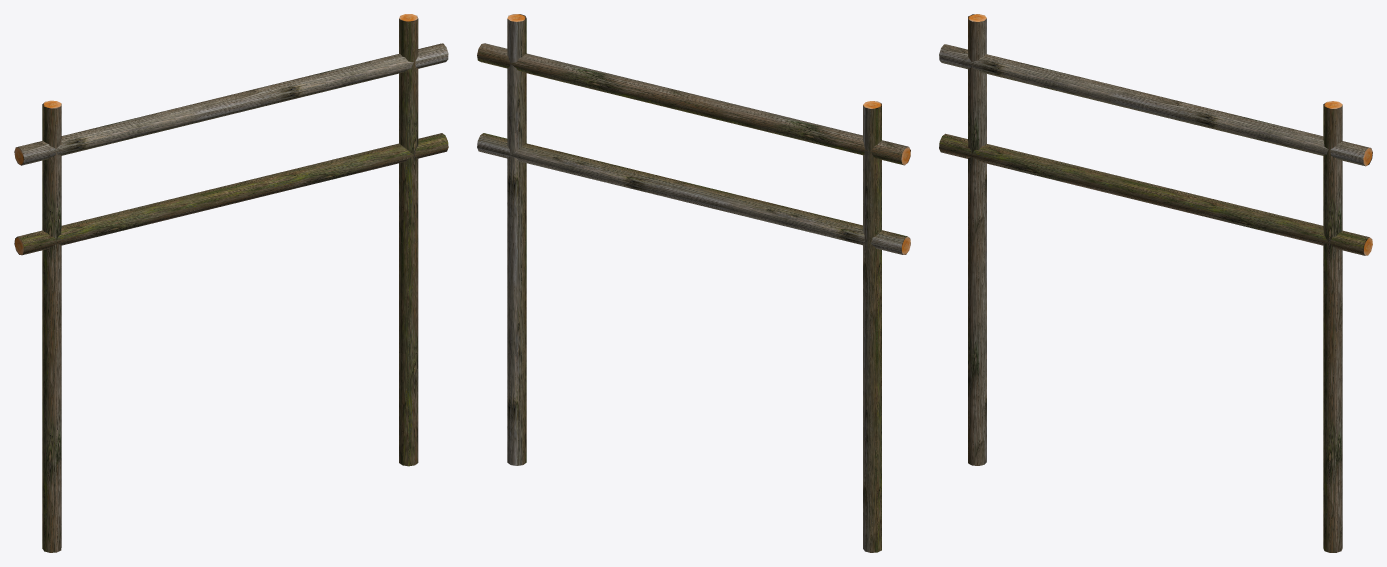
The model's file is barriere_en_bois.fbx.
The picture shows the model from 3 angles, left to right: view 1: azimuth 30°, elevation 25°; view 2: azimuth 150°, elevation 25°; view 3: azimuth 330°, elevation 25°; orthographic projection.
Parts seen in each view (by area): view 1: node_d0a5a660_5af4_4bf7_a589_2d497e8c2895_mesh0, node_e1c927a4_57b6_467e_90b7_c24ff43fc1f1_mesh0, node_404fb5ed_ab4a_4786_a2d7_f78ef03264db_mesh0, node_76ffb8f4_c9c5_46ce_956d_f6e52e615d53_mesh0, node_469bb40b_dad8_4895_8eec_fdea79c0942a_mesh0; view 2: node_d0a5a660_5af4_4bf7_a589_2d497e8c2895_mesh0, node_404fb5ed_ab4a_4786_a2d7_f78ef03264db_mesh0, node_e1c927a4_57b6_467e_90b7_c24ff43fc1f1_mesh0, node_469bb40b_dad8_4895_8eec_fdea79c0942a_mesh0, node_76ffb8f4_c9c5_46ce_956d_f6e52e615d53_mesh0; view 3: node_d0a5a660_5af4_4bf7_a589_2d497e8c2895_mesh0, node_404fb5ed_ab4a_4786_a2d7_f78ef03264db_mesh0, node_e1c927a4_57b6_467e_90b7_c24ff43fc1f1_mesh0, node_76ffb8f4_c9c5_46ce_956d_f6e52e615d53_mesh0, node_469bb40b_dad8_4895_8eec_fdea79c0942a_mesh0.
Boxes of the visible parts, <box> form: node_d0a5a660_5af4_4bf7_a589_2d497e8c2895_mesh0: <box>399,19,418,466</box>; node_e1c927a4_57b6_467e_90b7_c24ff43fc1f1_mesh0: <box>42,104,61,552</box>; node_404fb5ed_ab4a_4786_a2d7_f78ef03264db_mesh0: <box>18,43,448,165</box>; node_76ffb8f4_c9c5_46ce_956d_f6e52e615d53_mesh0: <box>21,133,448,254</box>; node_469bb40b_dad8_4895_8eec_fdea79c0942a_mesh0: <box>18,168,296,250</box>; node_d0a5a660_5af4_4bf7_a589_2d497e8c2895_mesh0: <box>507,19,526,465</box>; node_404fb5ed_ab4a_4786_a2d7_f78ef03264db_mesh0: <box>477,43,908,165</box>; node_e1c927a4_57b6_467e_90b7_c24ff43fc1f1_mesh0: <box>863,105,881,552</box>; node_469bb40b_dad8_4895_8eec_fdea79c0942a_mesh0: <box>477,135,907,254</box>; node_76ffb8f4_c9c5_46ce_956d_f6e52e615d53_mesh0: <box>480,133,901,247</box>; node_d0a5a660_5af4_4bf7_a589_2d497e8c2895_mesh0: <box>1323,105,1342,552</box>; node_404fb5ed_ab4a_4786_a2d7_f78ef03264db_mesh0: <box>939,44,1370,166</box>; node_e1c927a4_57b6_467e_90b7_c24ff43fc1f1_mesh0: <box>968,18,986,465</box>; node_76ffb8f4_c9c5_46ce_956d_f6e52e615d53_mesh0: <box>939,137,1369,255</box>; node_469bb40b_dad8_4895_8eec_fdea79c0942a_mesh0: <box>939,133,1136,183</box>.
Size of the model in its own units: 10000 by 10000 by 398.
Materials: 2 (2 with a texture image).
